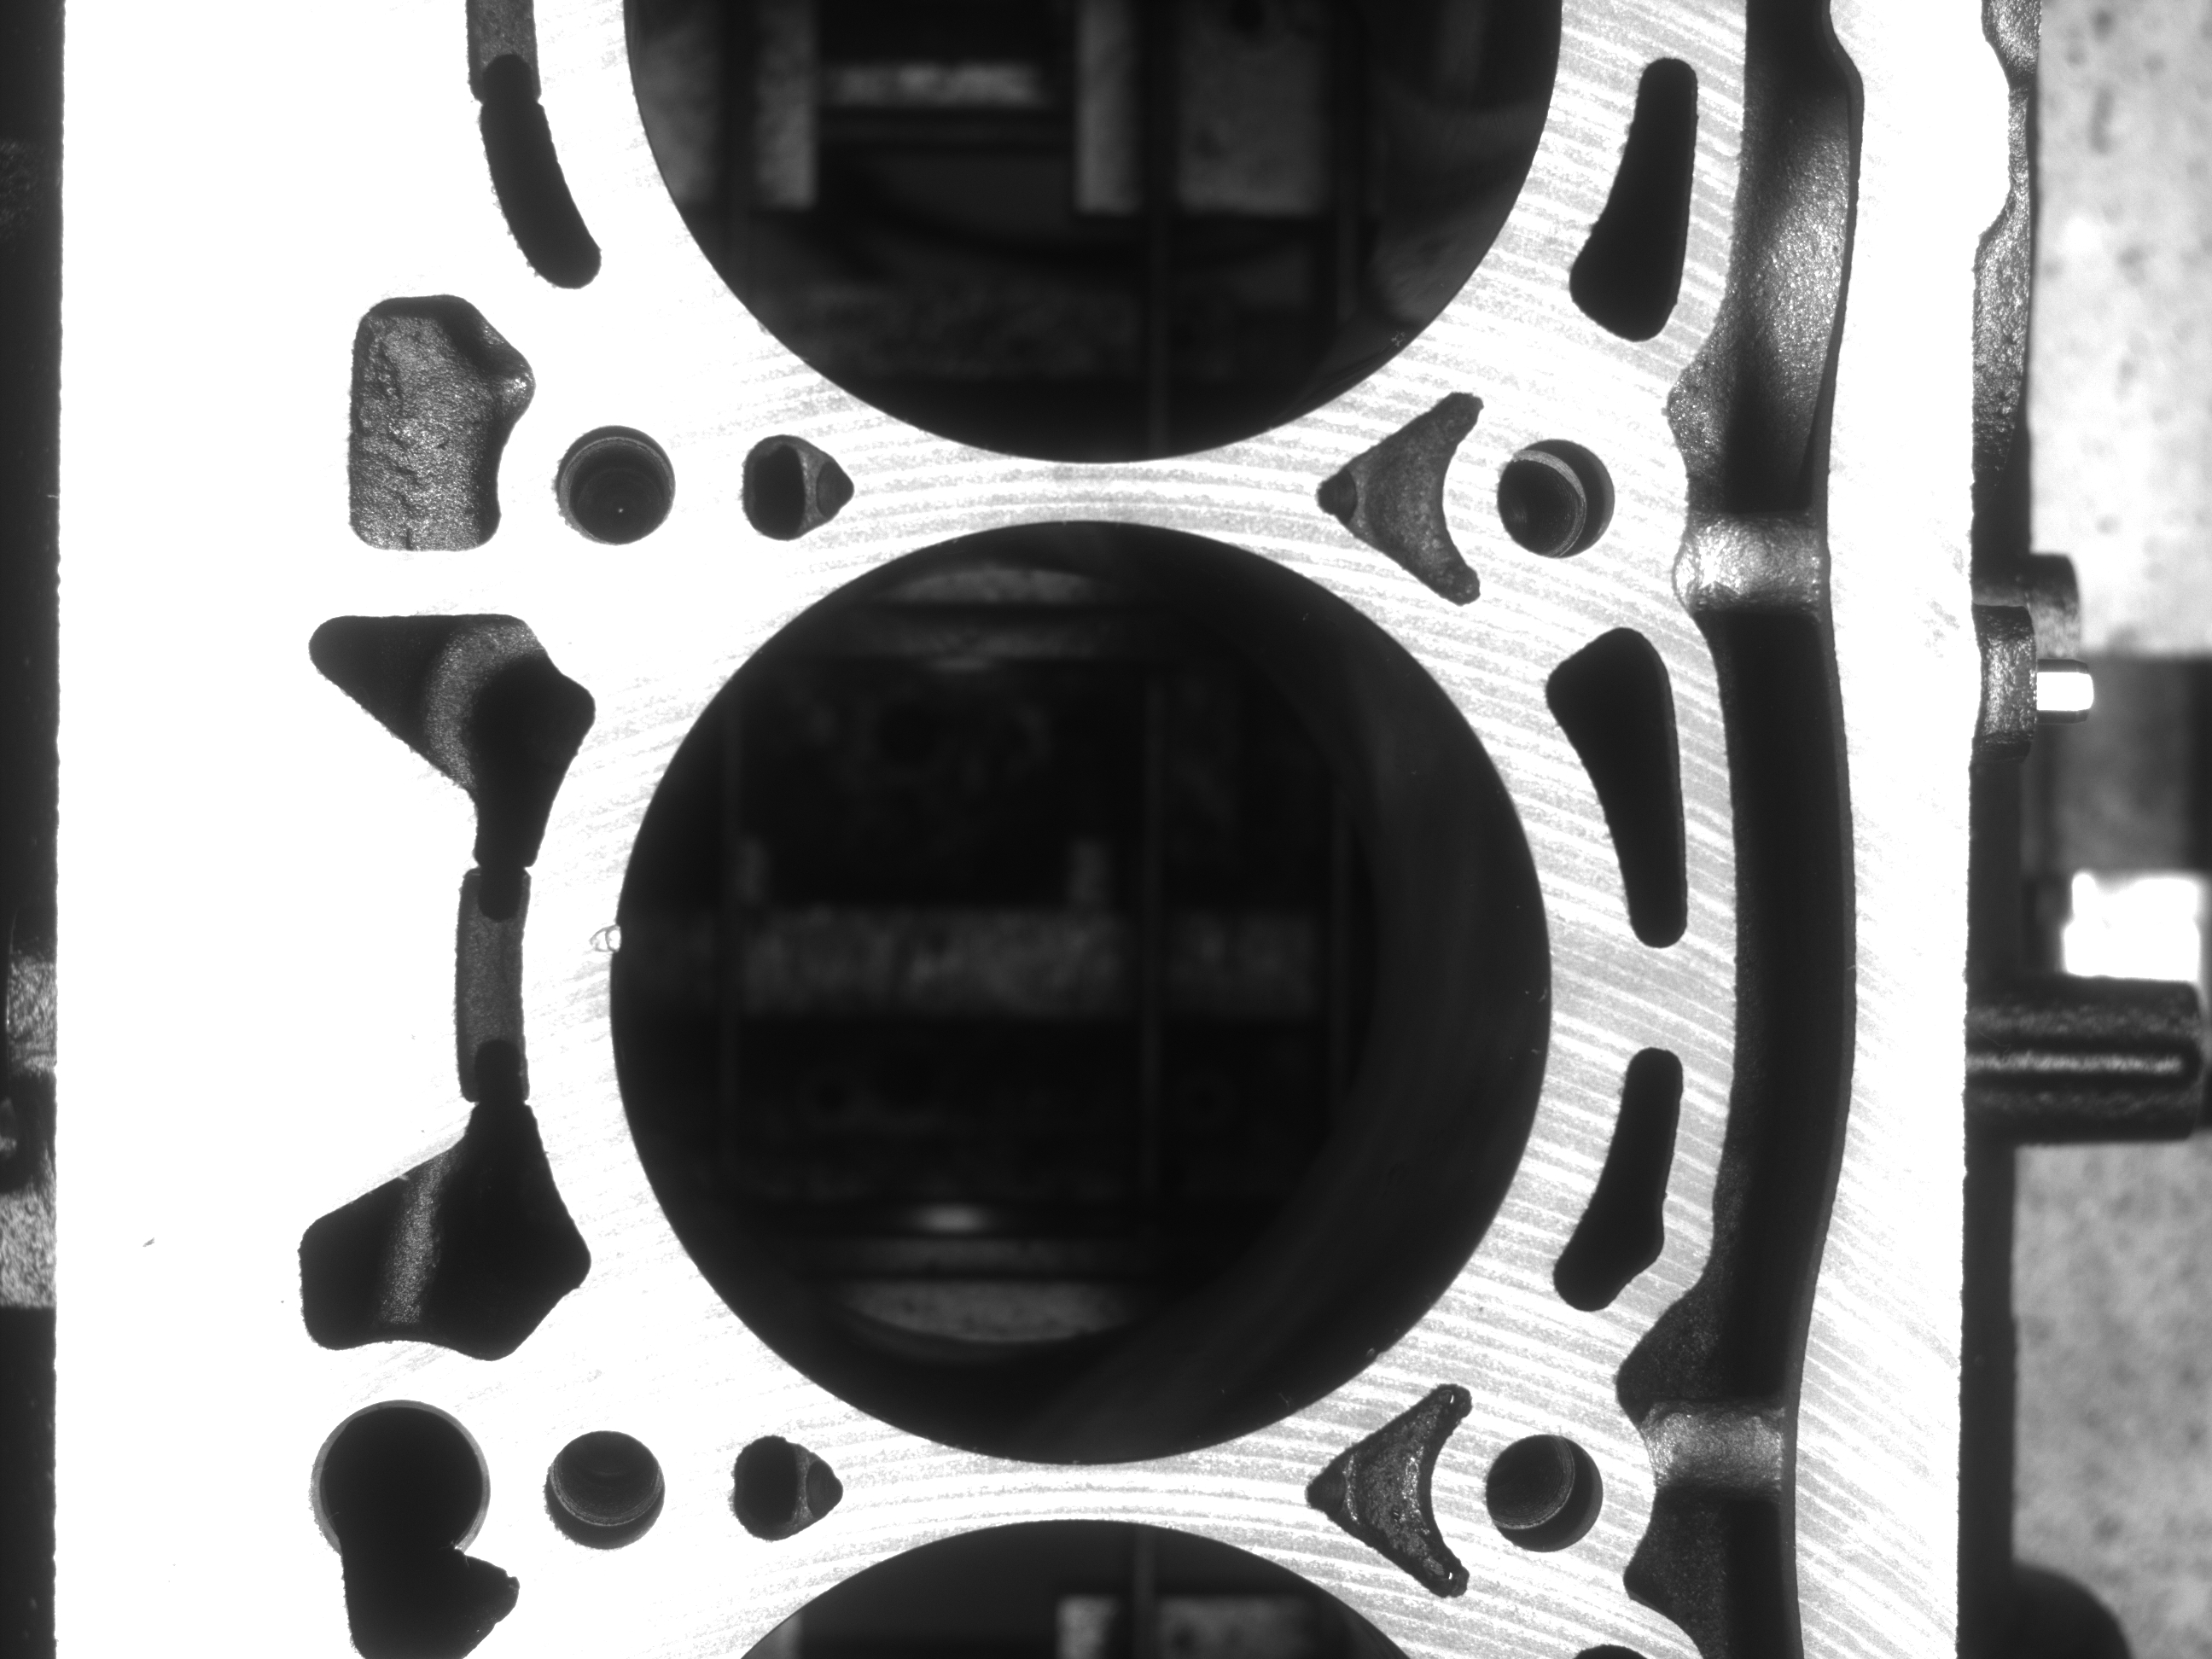sandhole: (577, 896, 624, 962)
